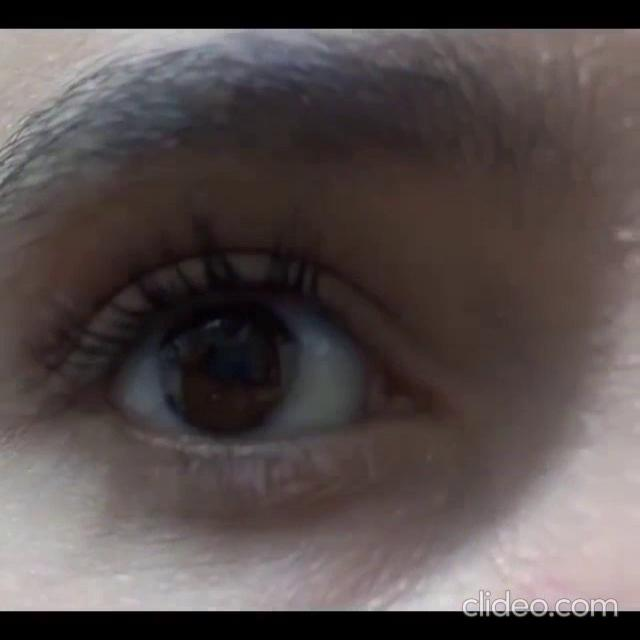iris: (160, 307, 291, 432)
pupille: (206, 342, 252, 378)
